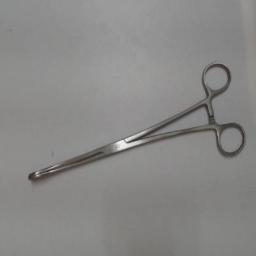Sponge Forceps: (21, 57, 249, 189)
